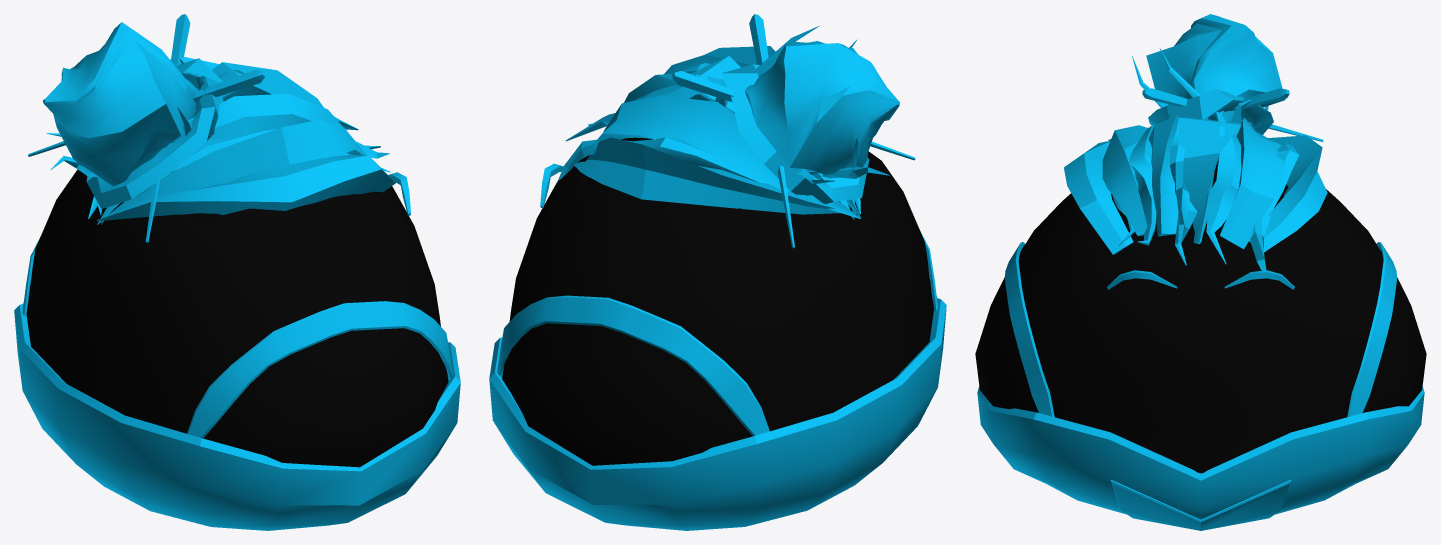
The model's file is TopQuark.fbx.
The picture shows the model from 3 angles, left to right: view 1: azimuth 30°, elevation 25°; view 2: azimuth 150°, elevation 25°; view 3: azimuth 270°, elevation 25°; orthographic projection. The views are drawn at different scales.
Visible parts, largest first — view 1: Cube; view 2: Cube; view 3: Cube.
Boxes of the visible parts, box(x1,y1,x2,y2) form: Cube: box(14, 14, 460, 530); Cube: box(489, 14, 946, 530); Cube: box(975, 14, 1426, 530).
Size of the model in its own units: 225 by 271 by 260.
